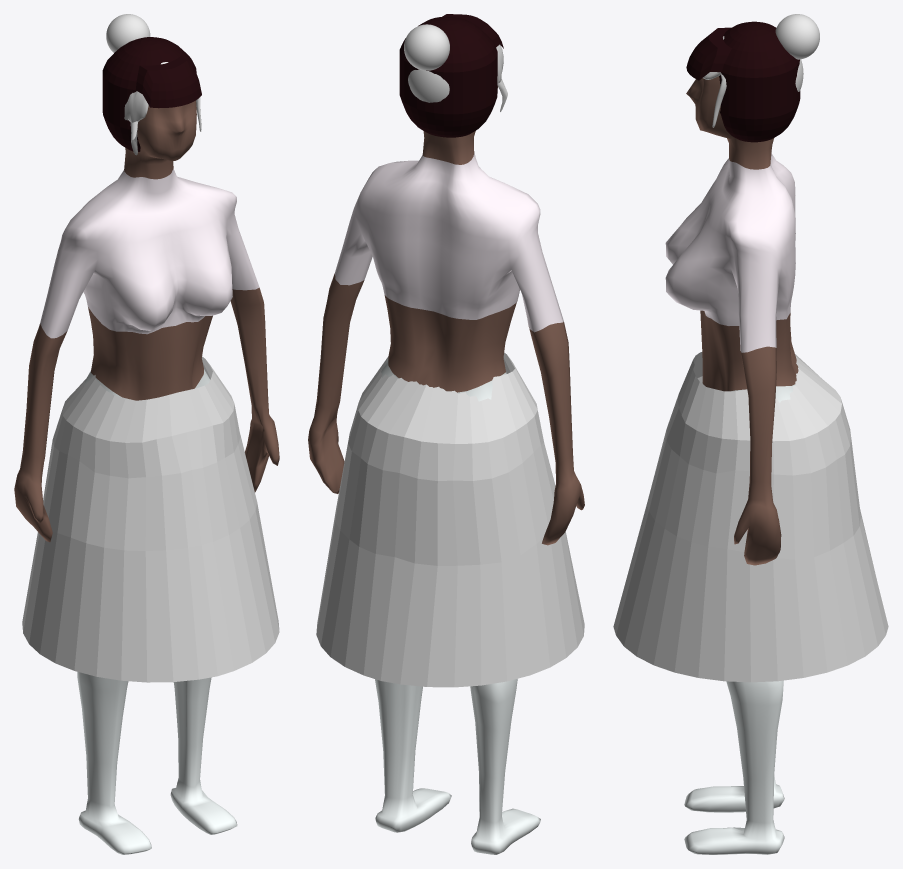
File: 4 karakter.fbx
3 views of the same model, side by side, from view 1: azimuth 30°, elevation 25°; view 2: azimuth 150°, elevation 25°; view 3: azimuth 270°, elevation 25° (orthographic). The views are drawn at different scales.
Visible parts, largest first — view 1: Cylinder, Cube, Sphere.001, Cube.001; view 2: Cylinder, Cube, Sphere.001, Cube.001; view 3: Cylinder, Cube, Sphere.001, Cube.001.
Boxes of the visible parts, x1=… form: Cylinder: x1=22, y1=356, x2=279, y2=682; Cube: x1=14, y1=100, x2=279, y2=854; Sphere.001: x1=102, y1=37, x2=201, y2=151; Cube.001: x1=106, y1=14, x2=201, y2=155; Cylinder: x1=316, y1=352, x2=584, y2=687; Cube: x1=308, y1=86, x2=584, y2=854; Sphere.001: x1=399, y1=14, x2=503, y2=137; Cube.001: x1=404, y1=24, x2=507, y2=111; Cylinder: x1=613, y1=352, x2=888, y2=682; Cube: x1=665, y1=76, x2=798, y2=854; Sphere.001: x1=686, y1=21, x2=800, y2=142; Cube.001: x1=703, y1=14, x2=819, y2=127.
Bounding box in the file's own units: 219 × 652 × 200.
